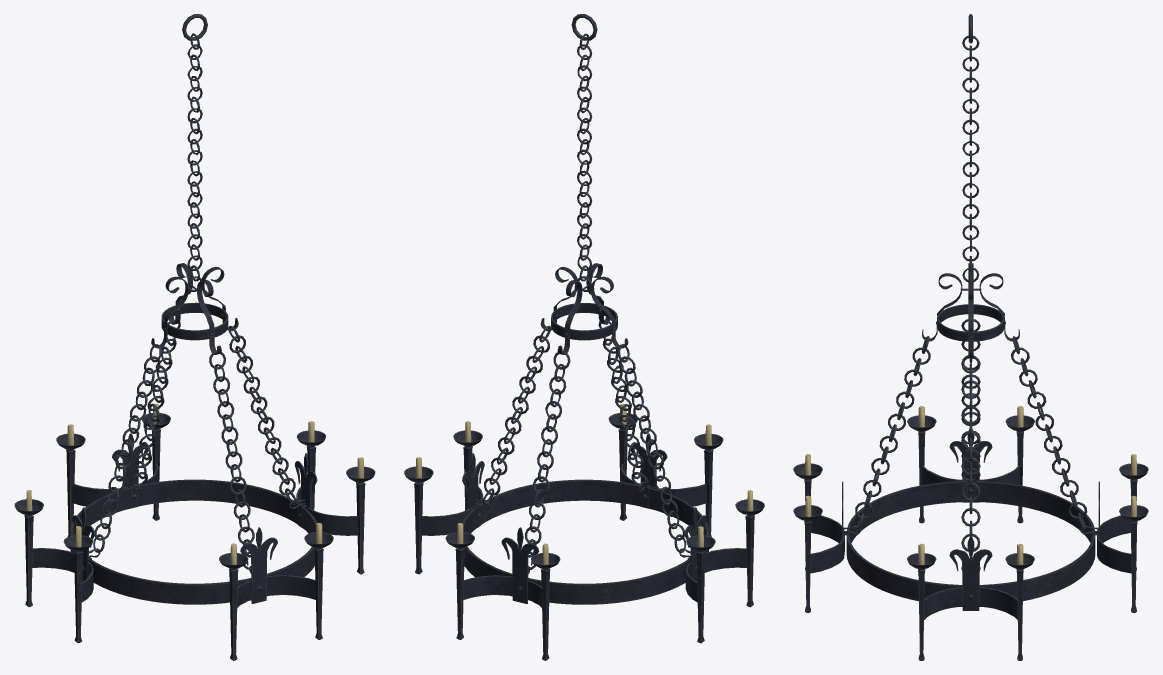
Rendered from chandelier.glb.
3 views of the same model, side by side, from view 1: azimuth 30°, elevation 25°; view 2: azimuth 150°, elevation 25°; view 3: azimuth 270°, elevation 25° (orthographic).
Visible parts, largest first — view 1: main_low.004_chandelier_0; view 2: main_low.004_chandelier_0; view 3: main_low.004_chandelier_0.
Boxes of the visible parts, left/top/right/bottom form: main_low.004_chandelier_0: left=14, top=14, right=375, bottom=660; main_low.004_chandelier_0: left=404, top=14, right=764, bottom=660; main_low.004_chandelier_0: left=793, top=14, right=1148, bottom=660.
Size of the model in its own units: 2.84 by 5.07 by 2.84.
Materials: 1 (1 with a texture image).
